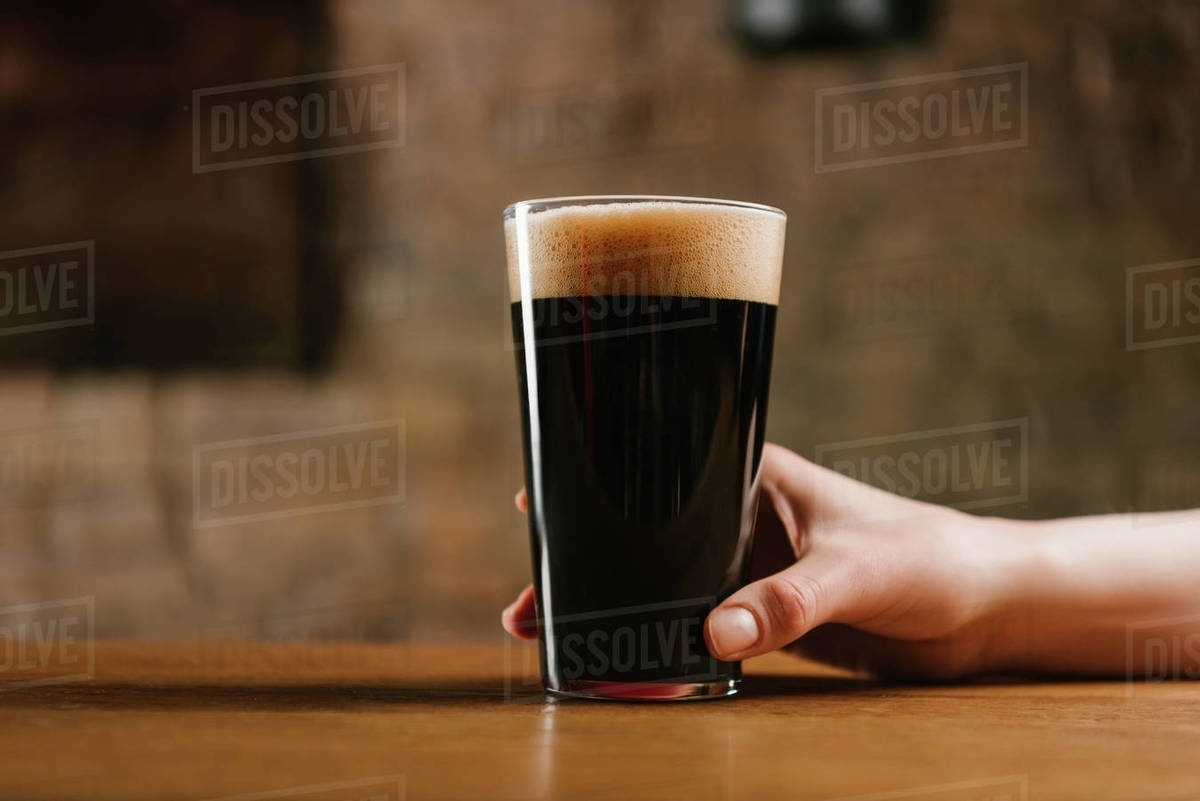whiskey: (518, 198, 782, 695)
